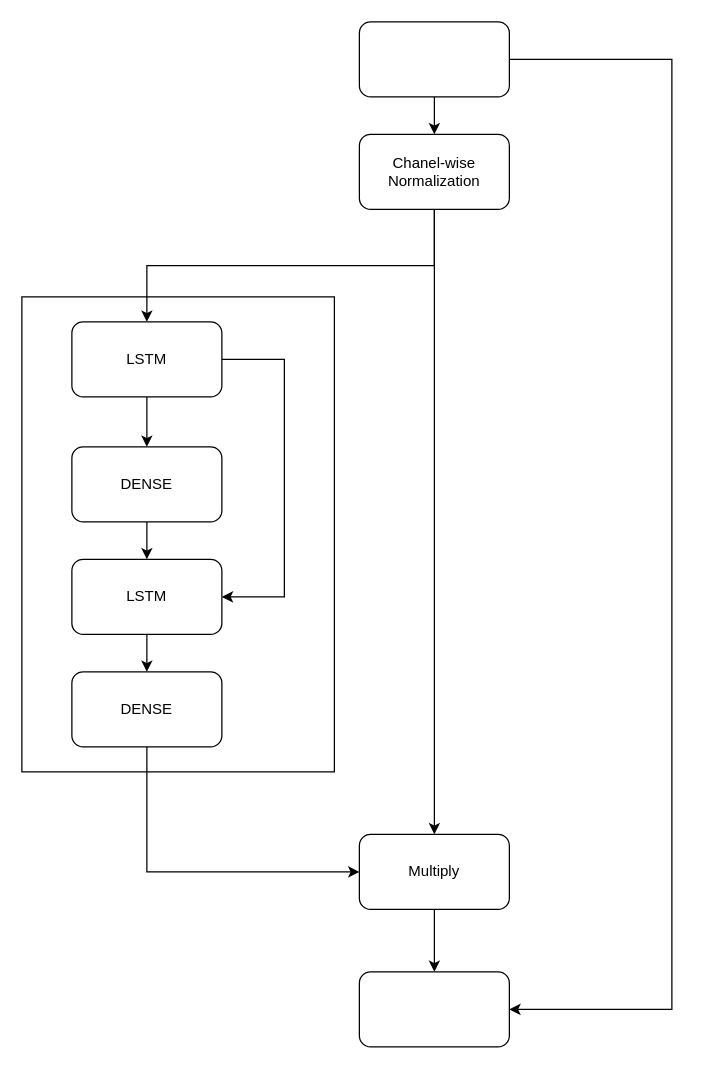
This 704x1069 diagram has some shape labels left out. The shapes that lost their labels are listed below. From the top down, each one's centre as x and y in pixels, then its label:
(433,59): STFT
(433,1009): ISTFT
